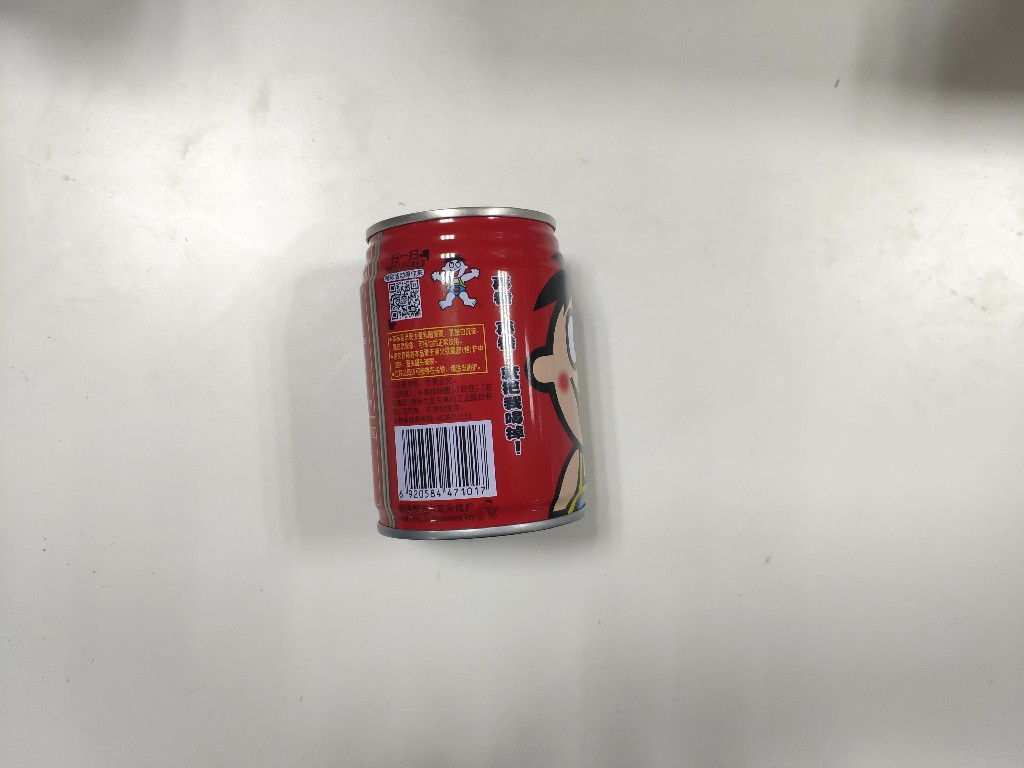can: (356, 203, 598, 543)
